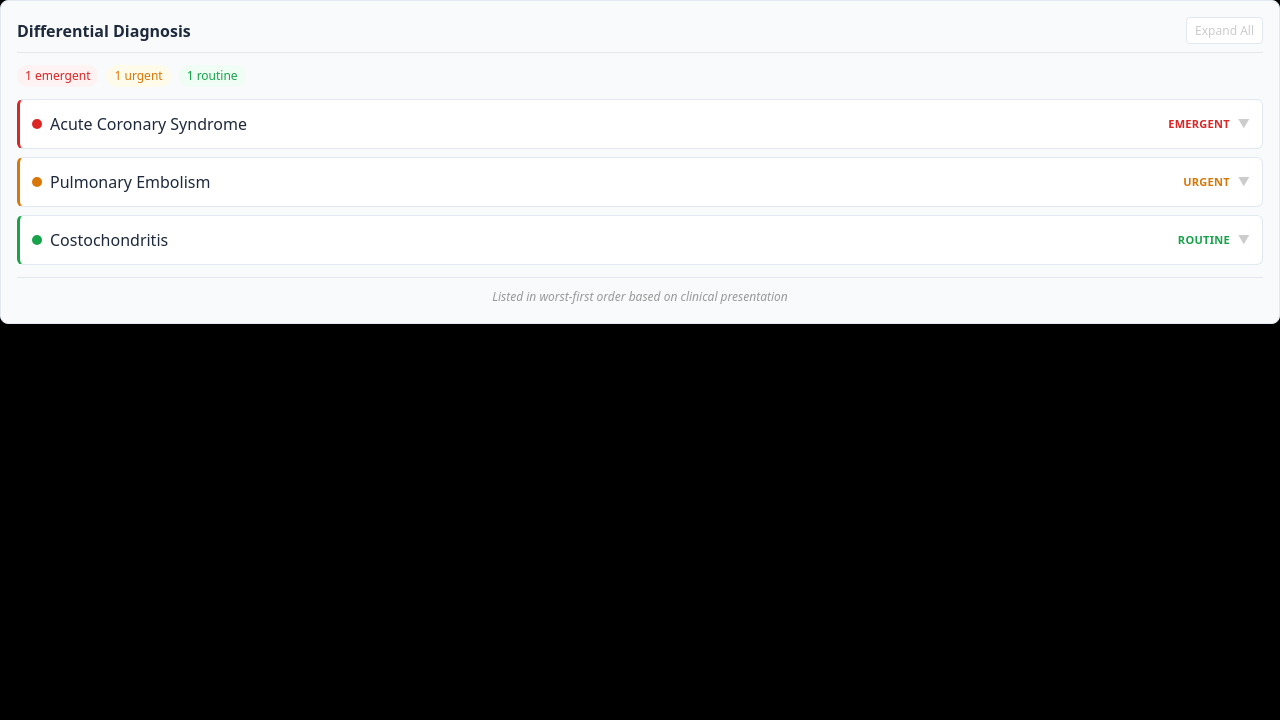
Test: DifferentialList › toggles Expand All / Collapse All
// Initially shows "Expand All"
Click the button "Expand All" at (1225, 30), box top-left (1186, 17), bottom-right (1263, 44)
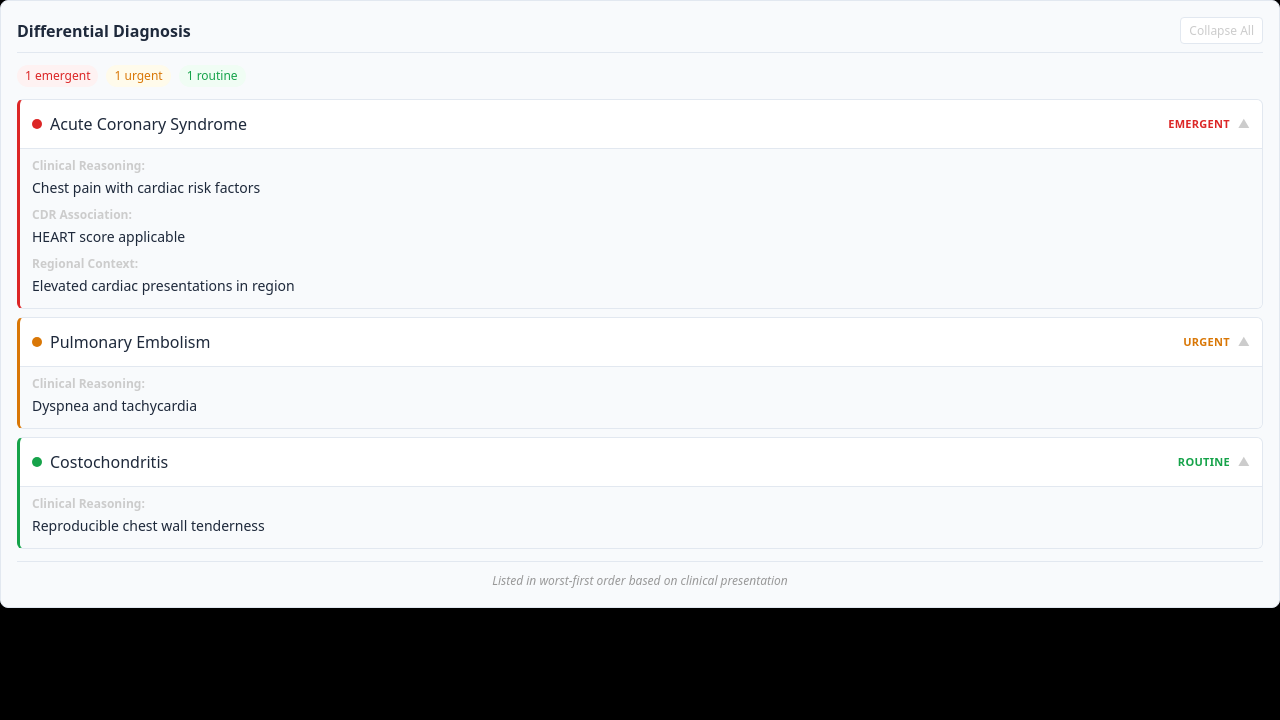
Result: the text "Chest pain with cardiac risk factors" is shown at top-left (32, 178), bottom-right (260, 197)
Result: the text "Dyspnea and tachycardia" is shown at top-left (32, 396), bottom-right (197, 415)
Result: the text "Reproducible chest wall tenderness" is shown at top-left (32, 516), bottom-right (265, 535)
// Click collapse
Click the button "Collapse All" at (1222, 30), box top-left (1180, 17), bottom-right (1263, 44)
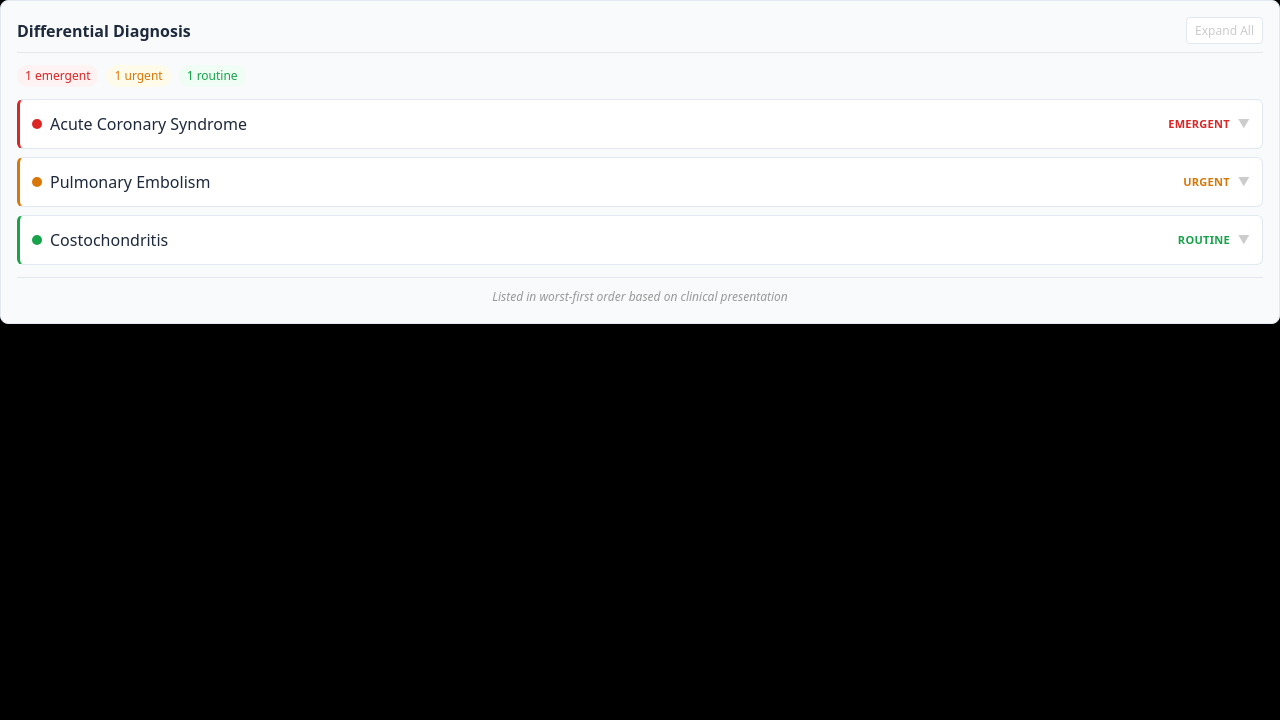
Result: the text "Chest pain with cardiac risk factors" is gone
